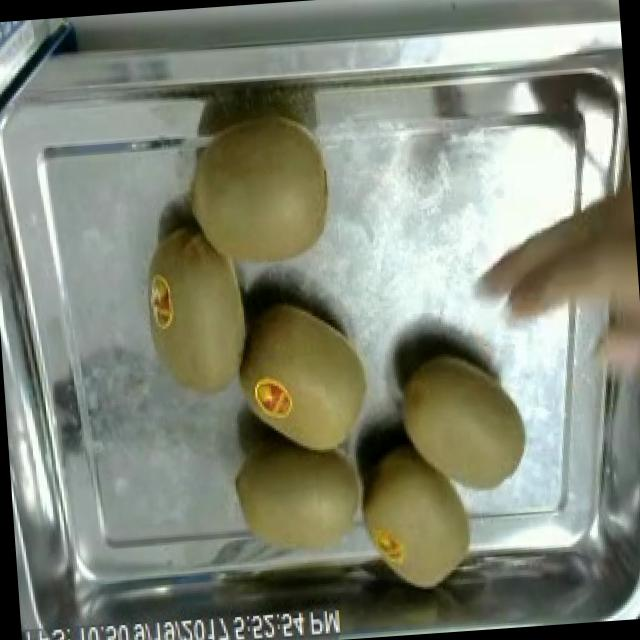Fruit: (175, 98, 346, 280), (384, 335, 541, 509), (128, 210, 264, 410), (354, 420, 494, 610), (237, 289, 386, 466), (224, 422, 374, 572)
